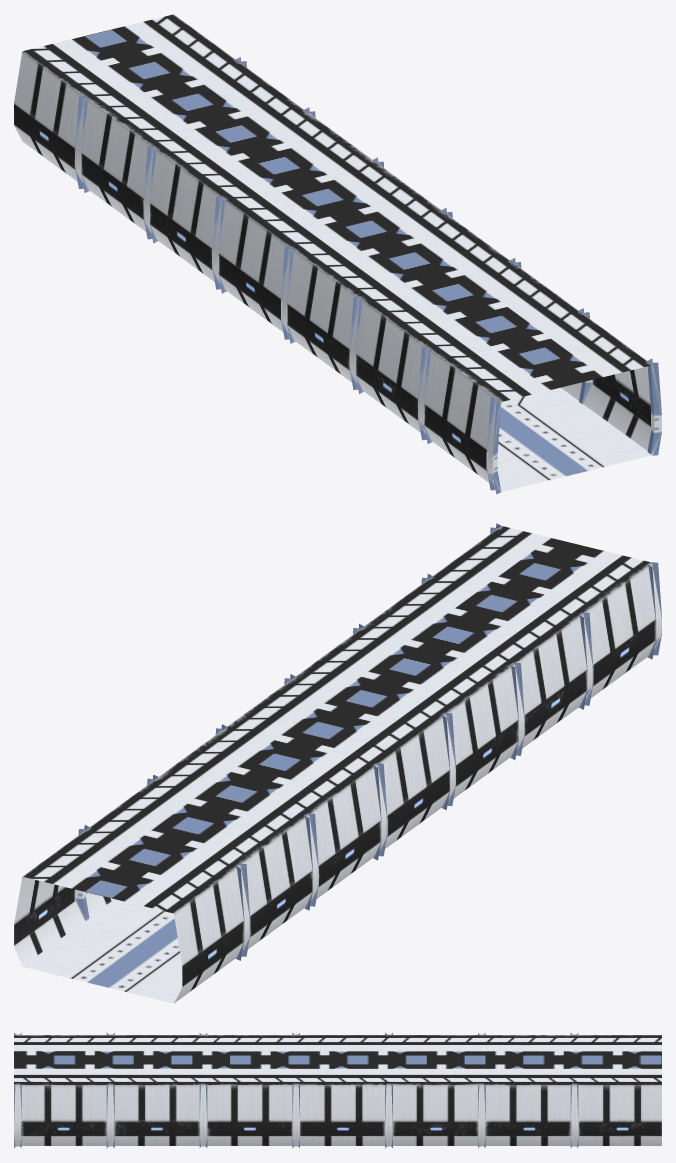
3 views of the same model, one above another, from view 1: azimuth 30°, elevation 25°; view 2: azimuth 150°, elevation 25°; view 3: azimuth 270°, elevation 25° (orthographic). The views are drawn at different scales.
Parts seen in each view (by area): view 1: block:block_lvl2_block_lvl2; view 2: block:block_lvl2_block_lvl2; view 3: block:block_lvl2_block_lvl2.
Boxes of the visible parts, x1,y1,x2,y2 form: block:block_lvl2_block_lvl2: (14,14,661,494); block:block_lvl2_block_lvl2: (14,523,661,1003); block:block_lvl2_block_lvl2: (14,1032,661,1148).
Size of the model in its own units: 13.86 by 7.25 by 67.9.
Materials: 1 (1 with a texture image).
